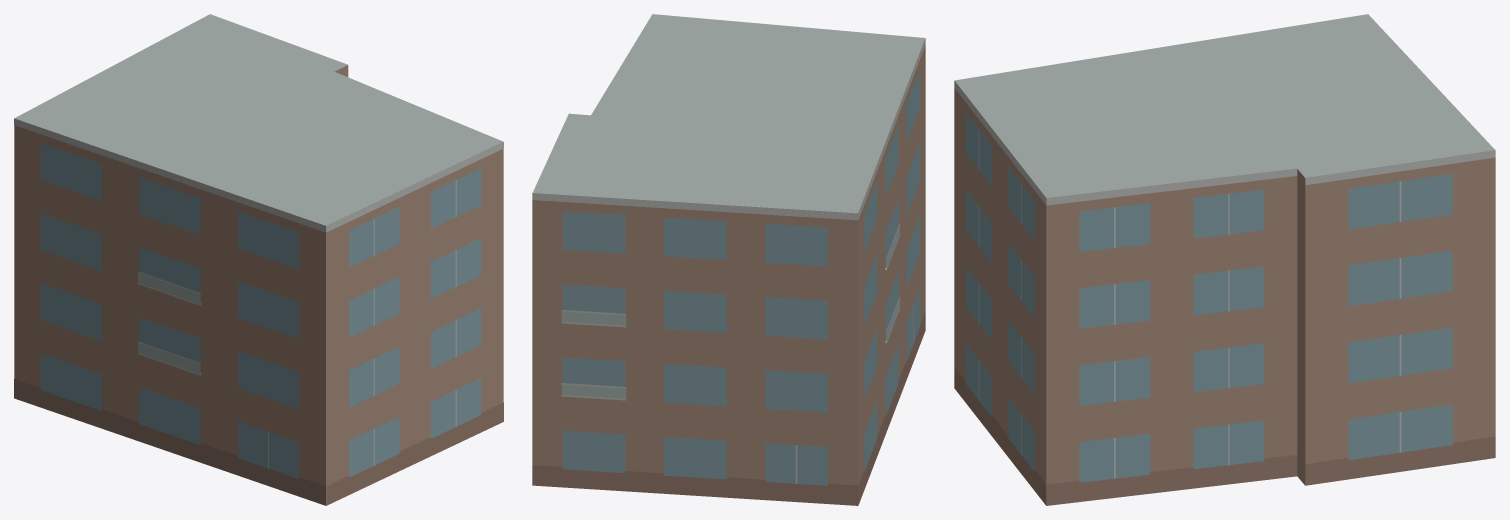
The model's file is survey-upis-32853048.glb.
The picture shows the model from 3 angles, left to right: view 1: azimuth 30°, elevation 25°; view 2: azimuth 150°, elevation 25°; view 3: azimuth 270°, elevation 25°; orthographic projection. The views are drawn at different scales.
Parts seen in each view (by area): view 1: survey-upis-32853048.tmp; view 2: survey-upis-32853048.tmp; view 3: survey-upis-32853048.tmp.
Part boxes in pixels (<box>): survey-upis-32853048.tmp: <box>14,14,503,505</box>; survey-upis-32853048.tmp: <box>532,14,925,505</box>; survey-upis-32853048.tmp: <box>954,14,1495,505</box>.
Size of the model in its own units: 13.1 by 10.2 by 16.27.
